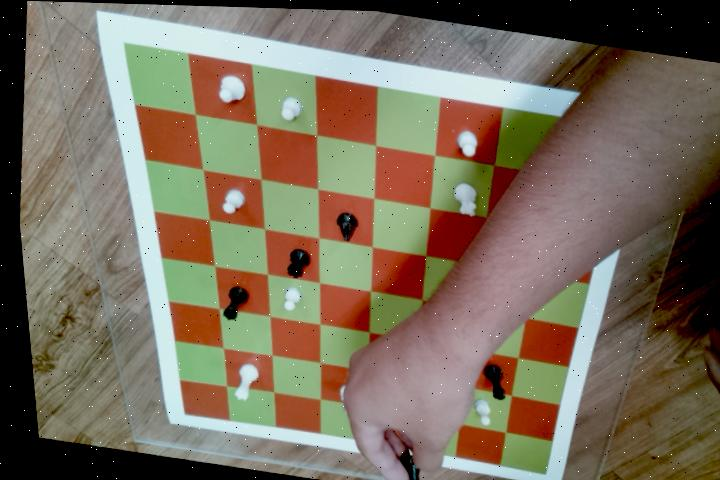chessboard-detect: (121, 41, 630, 473)
